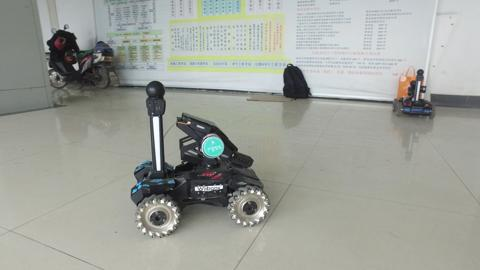bag: (280, 61, 313, 102), (396, 62, 422, 98)
chariot: (127, 79, 270, 238), (391, 67, 436, 120)
